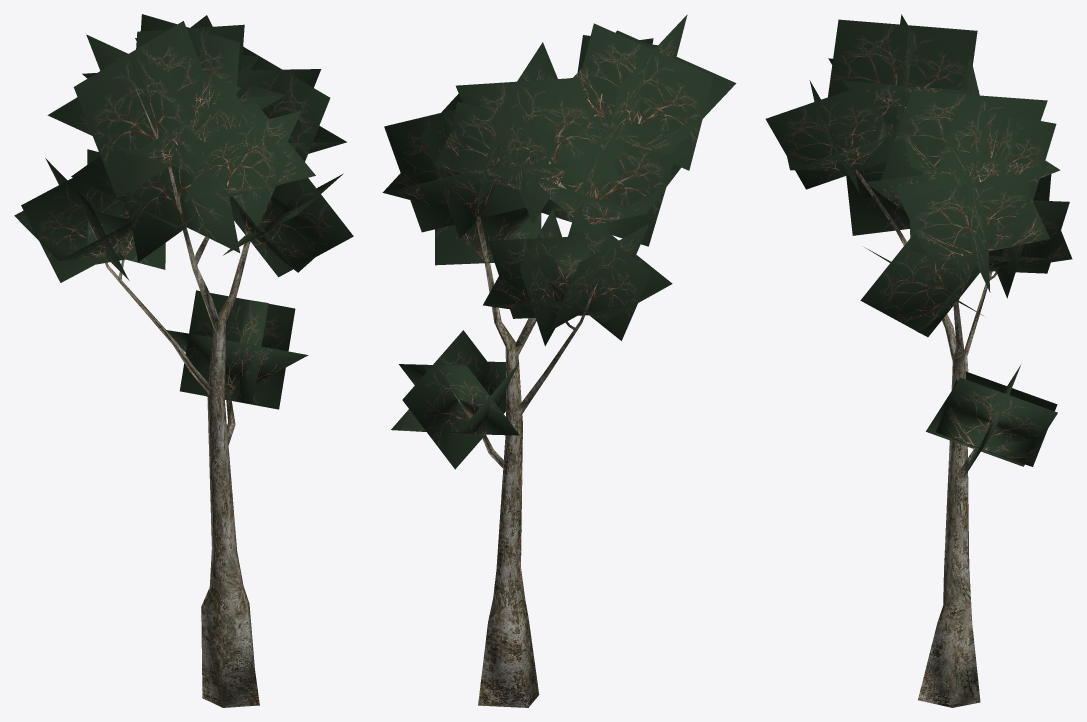
File: decd_hollytreebranches_a2_l0.fbx
3 views of the same model, side by side, from view 1: azimuth 30°, elevation 25°; view 2: azimuth 150°, elevation 25°; view 3: azimuth 270°, elevation 25° (orthographic). The views are drawn at different scales.
Parts seen in each view (by area): view 1: mesh_node; view 2: mesh_node; view 3: mesh_node.
Boxes of the visible parts, <box> form: mesh_node: <box>14,14,353,707</box>; mesh_node: <box>382,14,736,707</box>; mesh_node: <box>765,14,1072,707</box>.
Size of the model in its own units: 7.8 by 17.79 by 7.85.
